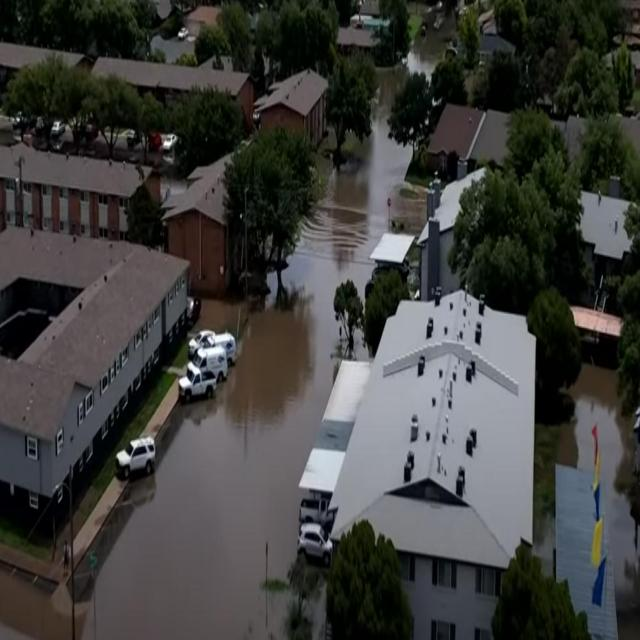flood: (75, 64, 425, 639), (535, 364, 640, 638), (0, 567, 70, 639)
house: (307, 293, 537, 640), (0, 228, 196, 542), (0, 145, 161, 242), (164, 138, 256, 300), (88, 59, 255, 128), (256, 64, 330, 168), (422, 96, 486, 176), (415, 169, 455, 293), (336, 20, 382, 58)
